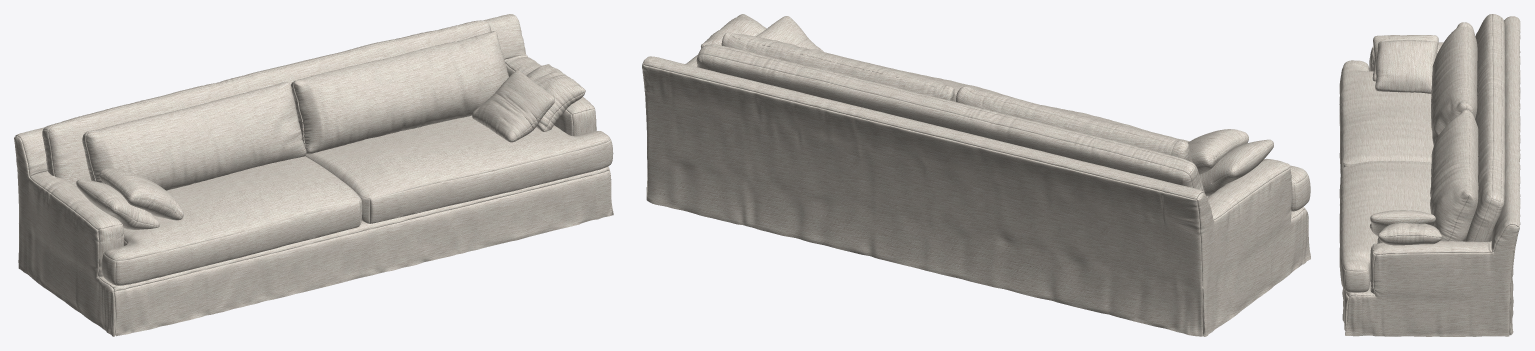
The model's file is SOBA_4.glb.
The picture shows the model from 3 angles, left to right: view 1: azimuth 30°, elevation 25°; view 2: azimuth 150°, elevation 25°; view 3: azimuth 270°, elevation 25°; orthographic projection. The views are drawn at different scales.
Visible parts, largest first — view 1: Object_5; view 2: Object_5; view 3: Object_5.
Part boxes in pixels (bbox=[...]): Object_5: bbox=[14, 14, 613, 336]; Object_5: bbox=[642, 14, 1310, 336]; Object_5: bbox=[1339, 14, 1520, 336].
Bounding box in the file's own units: 2.12 × 0.5997 × 0.7683.
2 materials, 1 textured.
